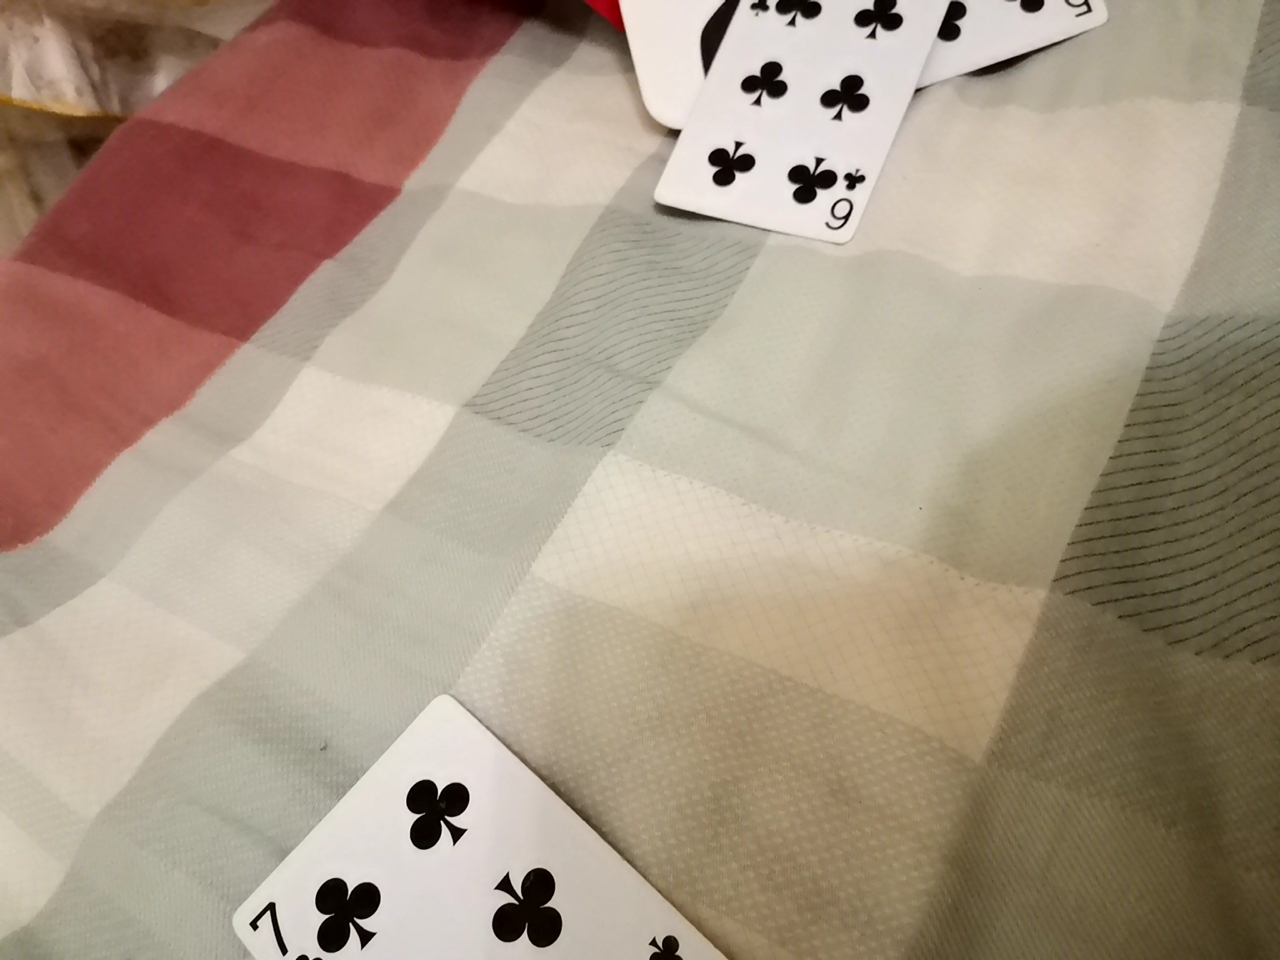mh 7: (140, 684, 776, 958)
